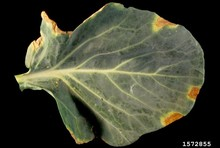damaged_cabbage: (12, 4, 210, 147)
